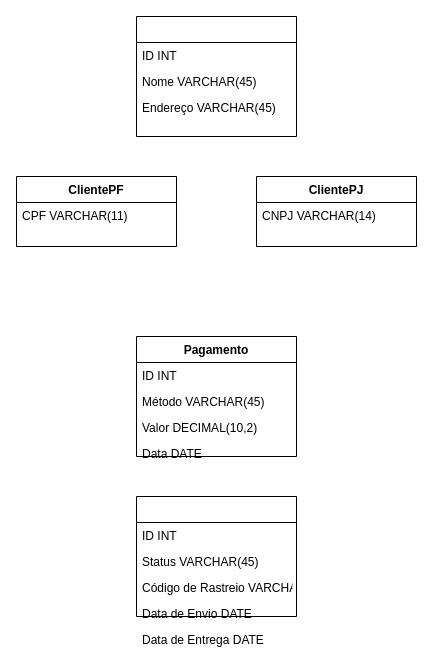
Some shapes in this 433 by 669 pixel diagram are drawn without their labels. Here are the shapes that lost their labels. From the top down, the box of each, then its label:
(136, 16, 296, 136): Cliente
(136, 496, 296, 616): Entrega
